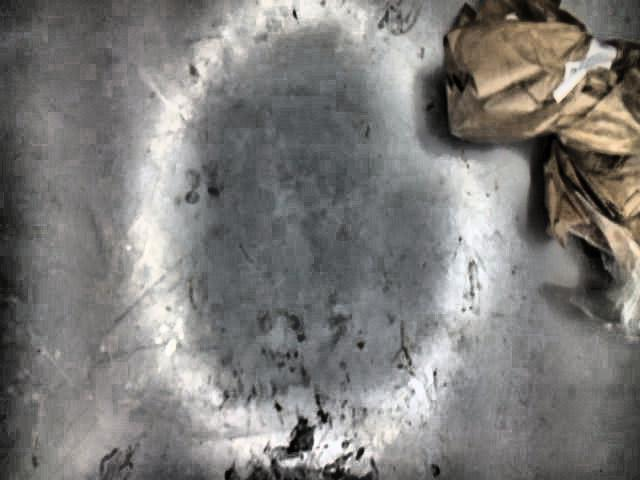Paper: (414, 1, 640, 341)
